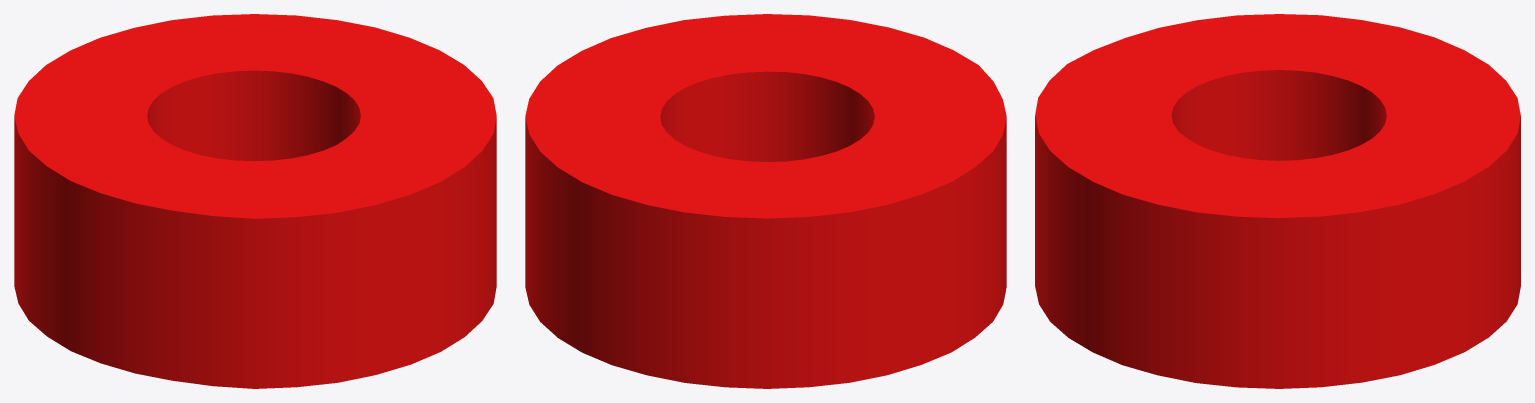
Rendered from SM_Police_Line_twisted_2.FBX.
The picture shows the model from 3 angles, left to right: view 1: azimuth 30°, elevation 25°; view 2: azimuth 150°, elevation 25°; view 3: azimuth 270°, elevation 25°; orthographic projection.
Parts seen in each view (by area): view 1: Police_Line_twisted_2; view 2: Police_Line_twisted_2; view 3: Police_Line_twisted_2.
Boxes of the visible parts, x1,y1,x2,y2 form: Police_Line_twisted_2: (14, 14, 496, 388); Police_Line_twisted_2: (525, 14, 1006, 388); Police_Line_twisted_2: (1035, 14, 1520, 388).
Size of the model in its own units: 13.4 by 5.23 by 13.47.
